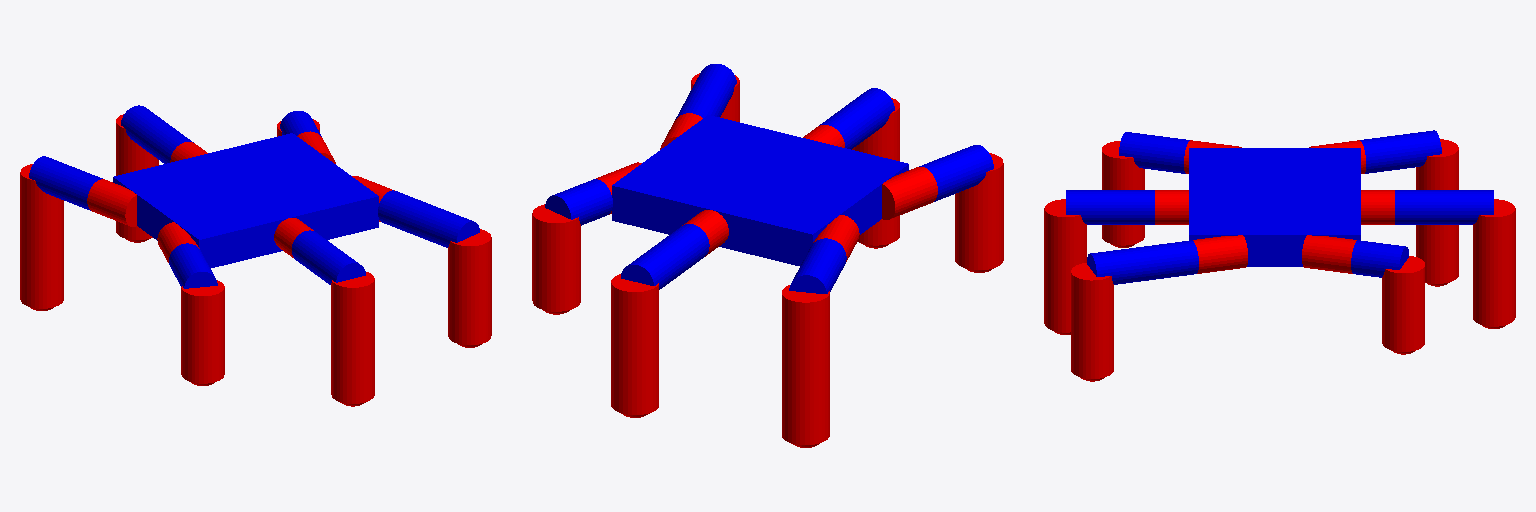
--- Render facts (derived) ---
The picture shows the robot from 3 angles, left to right: view 1: azimuth 30°, elevation 25°; view 2: azimuth 150°, elevation 25°; view 3: azimuth 270°, elevation 25°; orthographic projection.
Robot: pexod — 19 links, 18 joints (18 revolute); root link base_link; default pose: every joint at zero.
Links seen in each view (by area): view 1: base_link, leg_4_3, leg_0_3, leg_3_3, leg_5_3, leg_3_2, leg_4_2, leg_0_2, leg_1_2, leg_1_3, leg_0_1, leg_5_2 (+3 smaller); view 2: base_link, leg_0_3, leg_1_3, leg_2_3, leg_5_3, leg_1_2, leg_4_2, leg_5_2, leg_4_3, leg_0_2, leg_5_1, leg_3_2 (+5 smaller); view 3: base_link, leg_1_3, leg_3_3, leg_4_3, leg_0_3, leg_2_3, leg_3_2, leg_1_2, leg_4_2, leg_0_2, leg_5_3, leg_5_2 (+5 smaller).
Link boxes in pixels (left/top/right/bottom): base_link: left=113, top=133, right=378, bottom=268; leg_4_3: left=331, top=272, right=374, bottom=406; leg_0_3: left=20, top=164, right=63, bottom=310; leg_3_3: left=448, top=229, right=491, bottom=347; leg_5_3: left=181, top=280, right=224, bottom=385; leg_3_2: left=378, top=190, right=479, bottom=247; leg_4_2: left=292, top=230, right=365, bottom=284; leg_0_2: left=29, top=156, right=102, bottom=210; leg_1_2: left=121, top=105, right=193, bottom=163; leg_1_3: left=116, top=114, right=158, bottom=242; leg_0_1: left=87, top=179, right=136, bottom=226; leg_5_2: left=169, top=243, right=217, bottom=288; base_link: left=612, top=115, right=908, bottom=265; leg_0_3: left=782, top=285, right=829, bottom=447; leg_1_3: left=611, top=274, right=658, bottom=417; leg_2_3: left=532, top=204, right=580, bottom=314; leg_5_3: left=955, top=153, right=1003, bottom=272; leg_1_2: left=621, top=224, right=709, bottom=289; leg_4_2: left=819, top=88, right=894, bottom=149; leg_5_2: left=919, top=145, right=993, bottom=201; leg_4_3: left=852, top=98, right=899, bottom=248; leg_0_2: left=789, top=238, right=846, bottom=293; leg_5_1: left=882, top=167, right=937, bottom=219; leg_3_2: left=675, top=64, right=736, bottom=119; base_link: left=1189, top=148, right=1360, bottom=266; leg_1_3: left=1473, top=199, right=1515, bottom=328; leg_3_3: left=1071, top=263, right=1113, bottom=381; leg_4_3: left=1044, top=199, right=1086, bottom=334; leg_0_3: left=1416, top=139, right=1458, bottom=286; leg_2_3: left=1382, top=256, right=1424, bottom=354; leg_3_2: left=1087, top=240, right=1198, bottom=284; leg_1_2: left=1395, top=190, right=1493, bottom=224; leg_4_2: left=1066, top=190, right=1154, bottom=224; leg_0_2: left=1360, top=130, right=1441, bottom=173; leg_5_3: left=1102, top=141, right=1144, bottom=247; leg_5_2: left=1119, top=132, right=1189, bottom=173.
Size in the robot's own frame: 0.3892 by 0.5482 by 0.1952 metres.
Geometry: primitives only (box / cylinder / sphere), no mesh files.

URDF robot description (pexod):
<?xml version="1.0" ?>
<!-- =================================================================================== -->
<!-- |    This document was autogenerated by xacro from pexod.xacro                    | -->
<!-- |    EDITING THIS FILE BY HAND IS NOT RECOMMENDED                                 | -->
<!-- =================================================================================== -->
<robot name="pexod" xmlns:xacro="http://www.ros.org/wiki/xacro">
  <!-- <xacro:include filename="$(find pexod_description)/urdf/pexod_control.xacro" /> -->
  <!-- MATERIALS -->
  <material name="Blue">
    <color rgba="0 0 1 1"/>
  </material>
  <material name="Red">
    <color rgba="1 0 0 1"/>
  </material>
  <material name="Green">
    <color rgba="0 1 0 1"/>
  </material>
  <material name="Yellow">
    <color rgba="1 1 0 1"/>
  </material>
  <material name="LightGrey">
    <color rgba="0.6 0.6 0.6 1.0"/>
  </material>
  <!-- END OF MATERIALS -->
  <!-- XACRO MACROS FOR VISUALS AND COLLISIONS -->
  <!-- END OF XACRO MACROS -->
  <!-- TORSO -->
  <link name="base_link">
    <visual>
      <origin rpy="0 0 0" xyz="0 0 0"/>
      <geometry>
        <box size="0.24 0.2 0.04"/>
      </geometry>
      <material name="Blue"/>
    </visual>
    <collision>
      <origin rpy="0 0 0" xyz="0 0 0"/>
      <geometry>
        <box size="0.24 0.2 0.04"/>
      </geometry>
    </collision>
    <inertial>
      <!-- CENTER OF MASS -->
      <origin rpy="0 0 0" xyz="0 0 0"/>
      <mass value="1.031"/>
      <!-- box inertia: 1/12*m(y^2+z^2), ... -->
      <inertia ixx="0.00357413333333" ixy="0" ixz="0" iyy="0.00508626666667" iyz="0" izz="0.00838546666667"/>
    </inertial>
  </link>
  <!-- XACRO MACRO FOR LEGS LINKS/JOINTS -->
  <!-- END OF LEG LINKS/JOINTS -->
  <joint name="body_leg_2" type="revolute">
    <parent link="base_link"/>
    <child link="leg_2_1"/>
    <limit effort="30.0" lower="-1.57079632679" upper="1.57079632679" velocity="7.0"/>
    <origin rpy="0 0 -0.3" xyz="0.11 0.04 0"/>
    <!-- <xacro:if value="${index == 5 or index == 4 or index == 3}">
                <axis xyz="0 0 1"/>
            </xacro:if>
            <xacro:if value="${index == 2 or index == 1 or index == 0}"> -->
    <axis xyz="0 0 1"/>
    <!-- </xacro:if> -->
    <dynamics damping="0.0"/>
  </joint>
  <link name="leg_2_1">
    <visual>
      <origin rpy="1.57079632679 0 0" xyz="0.01 0.03 0"/>
      <geometry>
        <cylinder length="0.06" radius="0.02"/>
      </geometry>
      <material name="Red"/>
    </visual>
    <collision>
      <origin rpy="1.57079632679 0 0" xyz="0.01 0.03 0"/>
      <geometry>
        <box size="0.02 0.02 0.06"/>
      </geometry>
    </collision>
    <inertial>
      <!-- CENTER OF MASS -->
      <origin rpy="1.57079632679 0 0" xyz="0.01 0.03 0"/>
      <mass value="0.02"/>
      <!-- box inertia: 1/12*m(y^2+z^2), ... -->
      <inertia ixx="6.66666666667e-06" ixy="0" ixz="0" iyy="6.66666666667e-06" iyz="0" izz="1.33333333333e-06"/>
    </inertial>
  </link>
  <joint name="leg_2_1_2" type="revolute">
    <parent link="leg_2_1"/>
    <child link="leg_2_2"/>
    <limit effort="30.0" lower="-0.78539816339" upper="0.78539816339" velocity="7.0"/>
    <origin rpy="0 0 0" xyz="0 0.06 0"/>
    <axis xyz="1 0 0"/>
    <dynamics damping="0.0"/>
  </joint>
  <link name="leg_2_2">
    <visual>
      <origin rpy="1.57079632679 0 0" xyz="0.01 0.029377865961 0"/>
      <geometry>
        <cylinder length="0.0587557319221" radius="0.02"/>
      </geometry>
      <material name="Blue"/>
    </visual>
    <collision>
      <origin rpy="1.57079632679 0 0" xyz="0.01 0.029377865961 0"/>
      <geometry>
        <box size="0.02 0.02 0.0587557319221"/>
      </geometry>
    </collision>
    <inertial>
      <!-- CENTER OF MASS -->
      <origin rpy="1.57079632679 0 0" xyz="0.01 0.029377865961 0"/>
      <mass value="0.184"/>
      <!-- box inertia: 1/12*m(y^2+z^2), ... -->
      <inertia ixx="5.90676191834e-05" ixy="0" ixz="0" iyy="5.90676191834e-05" iyz="0" izz="1.22666666667e-05"/>
    </inertial>
  </link>
  <joint name="leg_2_2_3" type="revolute">
    <parent link="leg_2_2"/>
    <child link="leg_2_3"/>
    <limit effort="30.0" lower="-0.78539816339" upper="0.78539816339" velocity="7.0"/>
    <origin rpy="-1.57079632679 0 0" xyz="0 0.0587557319221 0"/>
    <axis xyz="-1 0 0"/>
    <dynamics damping="0.0"/>
  </joint>
  <link name="leg_2_3">
    <visual>
      <origin rpy="1.57079632679 0 0" xyz="0.0125 0.050413969659 0"/>
      <geometry>
        <cylinder length="0.100827939318" radius="0.025"/>
      </geometry>
      <material name="Red"/>
    </visual>
    <visual>
      <origin rpy="1.57079632679 0 0" xyz="0.0125 0.088327939318 0"/>
      <geometry>
        <sphere radius="0.025"/>
      </geometry>
      <material name="Red"/>
    </visual>
    <collision>
      <origin rpy="1.57079632679 0 0" xyz="0.0125 0.050413969659 0"/>
      <geometry>
        <box size="0.025 0.025 0.100827939318"/>
      </geometry>
    </collision>
    <collision>
      <origin rpy="1.57079632679 0 0" xyz="0.0125 0.088327939318 0"/>
      <geometry>
        <sphere radius="0.025"/>
      </geometry>
      <material name="Red"/>
    </collision>
    <inertial>
      <!-- CENTER OF MASS -->
      <origin rpy="1.57079632679 0 0" xyz="0.0125 0.050413969659 0"/>
      <mass value="0.04"/>
      <!-- box inertia: 1/12*m(y^2+z^2), ... -->
      <inertia ixx="3.5970911157e-05" ixy="0" ixz="0" iyy="3.5970911157e-05" iyz="0" izz="4.16666666667e-06"/>
    </inertial>
  </link>
  <joint name="body_leg_3" type="revolute">
    <parent link="base_link"/>
    <child link="leg_3_1"/>
    <limit effort="30.0" lower="-1.57079632679" upper="1.57079632679" velocity="7.0"/>
    <origin rpy="0 0 0.3" xyz="0.11 -0.04 0"/>
    <!-- <xacro:if value="${index == 5 or index == 4 or index == 3}">
                <axis xyz="0 0 1"/>
            </xacro:if>
            <xacro:if value="${index == 2 or index == 1 or index == 0}"> -->
    <axis xyz="0 0 1"/>
    <!-- </xacro:if> -->
    <dynamics damping="0.0"/>
  </joint>
  <link name="leg_3_1">
    <visual>
      <origin rpy="1.57079632679 0 0" xyz="0.01 -0.03 0"/>
      <geometry>
        <cylinder length="0.06" radius="0.02"/>
      </geometry>
      <material name="Red"/>
    </visual>
    <collision>
      <origin rpy="1.57079632679 0 0" xyz="0.01 -0.03 0"/>
      <geometry>
        <box size="0.02 0.02 0.06"/>
      </geometry>
    </collision>
    <inertial>
      <!-- CENTER OF MASS -->
      <origin rpy="1.57079632679 0 0" xyz="0.01 -0.03 0"/>
      <mass value="0.02"/>
      <!-- box inertia: 1/12*m(y^2+z^2), ... -->
      <inertia ixx="6.66666666667e-06" ixy="0" ixz="0" iyy="6.66666666667e-06" iyz="0" izz="1.33333333333e-06"/>
    </inertial>
  </link>
  <joint name="leg_3_1_2" type="revolute">
    <parent link="leg_3_1"/>
    <child link="leg_3_2"/>
    <limit effort="30.0" lower="-0.78539816339" upper="0.78539816339" velocity="7.0"/>
    <origin rpy="0 0 0" xyz="0 -0.06 0"/>
    <axis xyz="-1 0 0"/>
    <dynamics damping="0.0"/>
  </joint>
  <link name="leg_3_2">
    <visual>
      <origin rpy="1.57079632679 0 0" xyz="0.01 -0.0621698766225 0"/>
      <geometry>
        <cylinder length="0.124339753245" radius="0.02"/>
      </geometry>
      <material name="Blue"/>
    </visual>
    <collision>
      <origin rpy="1.57079632679 0 0" xyz="0.01 -0.0621698766225 0"/>
      <geometry>
        <box size="0.02 0.02 0.124339753245"/>
      </geometry>
    </collision>
    <inertial>
      <!-- CENTER OF MASS -->
      <origin rpy="1.57079632679 0 0" xyz="0.01 -0.0621698766225 0"/>
      <mass value="0.184"/>
      <!-- box inertia: 1/12*m(y^2+z^2), ... -->
      <inertia ixx="0.000243192404968" ixy="0" ixz="0" iyy="0.000243192404968" iyz="0" izz="1.22666666667e-05"/>
    </inertial>
  </link>
  <joint name="leg_3_2_3" type="revolute">
    <parent link="leg_3_2"/>
    <child link="leg_3_3"/>
    <limit effort="30.0" lower="-0.78539816339" upper="0.78539816339" velocity="7.0"/>
    <origin rpy="1.57079632679 0 0" xyz="0 -0.124339753245 0"/>
    <axis xyz="1 0 0"/>
    <dynamics damping="0.0"/>
  </joint>
  <link name="leg_3_3">
    <visual>
      <origin rpy="1.57079632679 0 0" xyz="0.0125 -0.063259593754 0"/>
      <geometry>
        <cylinder length="0.126519187508" radius="0.025"/>
      </geometry>
      <material name="Red"/>
    </visual>
    <visual>
      <origin rpy="1.57079632679 0 0" xyz="0.0125 -0.114019187508 0"/>
      <geometry>
        <sphere radius="0.025"/>
      </geometry>
      <material name="Red"/>
    </visual>
    <collision>
      <origin rpy="1.57079632679 0 0" xyz="0.0125 -0.063259593754 0"/>
      <geometry>
        <box size="0.025 0.025 0.126519187508"/>
      </geometry>
    </collision>
    <collision>
      <origin rpy="1.57079632679 0 0" xyz="0.0125 -0.114019187508 0"/>
      <geometry>
        <sphere radius="0.025"/>
      </geometry>
      <material name="Red"/>
    </collision>
    <inertial>
      <!-- CENTER OF MASS -->
      <origin rpy="1.57079632679 0 0" xyz="0.0125 -0.063259593754 0"/>
      <mass value="0.04"/>
      <!-- box inertia: 1/12*m(y^2+z^2), ... -->
      <inertia ixx="5.54403493589e-05" ixy="0" ixz="0" iyy="5.54403493589e-05" iyz="0" izz="4.16666666667e-06"/>
    </inertial>
  </link>
  <joint name="body_leg_0" type="revolute">
    <parent link="base_link"/>
    <child link="leg_0_1"/>
    <limit effort="30.0" lower="-1.57079632679" upper="1.57079632679" velocity="7.0"/>
    <origin rpy="0 0 0.3" xyz="-0.13 0.04 0"/>
    <!-- <xacro:if value="${index == 5 or index == 4 or index == 3}">
                <axis xyz="0 0 1"/>
            </xacro:if>
            <xacro:if value="${index == 2 or index == 1 or index == 0}"> -->
    <axis xyz="0 0 1"/>
    <!-- </xacro:if> -->
    <dynamics damping="0.0"/>
  </joint>
  <link name="leg_0_1">
    <visual>
      <origin rpy="1.57079632679 0 0" xyz="0.01 0.03 0"/>
      <geometry>
        <cylinder length="0.06" radius="0.02"/>
      </geometry>
      <material name="Red"/>
    </visual>
    <collision>
      <origin rpy="1.57079632679 0 0" xyz="0.01 0.03 0"/>
      <geometry>
        <box size="0.02 0.02 0.06"/>
      </geometry>
    </collision>
    <inertial>
      <!-- CENTER OF MASS -->
      <origin rpy="1.57079632679 0 0" xyz="0.01 0.03 0"/>
      <mass value="0.02"/>
      <!-- box inertia: 1/12*m(y^2+z^2), ... -->
      <inertia ixx="6.66666666667e-06" ixy="0" ixz="0" iyy="6.66666666667e-06" iyz="0" izz="1.33333333333e-06"/>
    </inertial>
  </link>
  <joint name="leg_0_1_2" type="revolute">
    <parent link="leg_0_1"/>
    <child link="leg_0_2"/>
    <limit effort="30.0" lower="-0.78539816339" upper="0.78539816339" velocity="7.0"/>
    <origin rpy="0 0 0" xyz="0 0.06 0"/>
    <axis xyz="1 0 0"/>
    <dynamics damping="0.0"/>
  </joint>
  <link name="leg_0_2">
    <visual>
      <origin rpy="1.57079632679 0 0" xyz="0.01 0.0460457643201 0"/>
      <geometry>
        <cylinder length="0.0920915286403" radius="0.02"/>
      </geometry>
      <material name="Blue"/>
    </visual>
    <collision>
      <origin rpy="1.57079632679 0 0" xyz="0.01 0.0460457643201 0"/>
      <geometry>
        <box size="0.02 0.02 0.0920915286403"/>
      </geometry>
    </collision>
    <inertial>
      <!-- CENTER OF MASS -->
      <origin rpy="1.57079632679 0 0" xyz="0.01 0.0460457643201 0"/>
      <mass value="0.184"/>
      <!-- box inertia: 1/12*m(y^2+z^2), ... -->
      <inertia ixx="0.000136173027925" ixy="0" ixz="0" iyy="0.000136173027925" iyz="0" izz="1.22666666667e-05"/>
    </inertial>
  </link>
  <joint name="leg_0_2_3" type="revolute">
    <parent link="leg_0_2"/>
    <child link="leg_0_3"/>
    <limit effort="30.0" lower="-0.78539816339" upper="0.78539816339" velocity="7.0"/>
    <origin rpy="-1.57079632679 0 0" xyz="0 0.0920915286403 0"/>
    <axis xyz="-1 0 0"/>
    <dynamics damping="0.0"/>
  </joint>
  <link name="leg_0_3">
    <visual>
      <origin rpy="1.57079632679 0 0" xyz="0.0125 0.0813630883975 0"/>
      <geometry>
        <cylinder length="0.162726176795" radius="0.025"/>
      </geometry>
      <material name="Red"/>
    </visual>
    <visual>
      <origin rpy="1.57079632679 0 0" xyz="0.0125 0.150226176795 0"/>
      <geometry>
        <sphere radius="0.025"/>
      </geometry>
      <material name="Red"/>
    </visual>
    <collision>
      <origin rpy="1.57079632679 0 0" xyz="0.0125 0.0813630883975 0"/>
      <geometry>
        <box size="0.025 0.025 0.162726176795"/>
      </geometry>
    </collision>
    <collision>
      <origin rpy="1.57079632679 0 0" xyz="0.0125 0.150226176795 0"/>
      <geometry>
        <sphere radius="0.025"/>
      </geometry>
      <material name="Red"/>
    </collision>
    <inertial>
      <!-- CENTER OF MASS -->
      <origin rpy="1.57079632679 0 0" xyz="0.0125 0.0813630883975 0"/>
      <mass value="0.04"/>
      <!-- box inertia: 1/12*m(y^2+z^2), ... -->
      <inertia ixx="9.03493620477e-05" ixy="0" ixz="0" iyy="9.03493620477e-05" iyz="0" izz="4.16666666667e-06"/>
    </inertial>
  </link>
  <joint name="body_leg_5" type="revolute">
    <parent link="base_link"/>
    <child link="leg_5_1"/>
    <limit effort="30.0" lower="-1.57079632679" upper="1.57079632679" velocity="7.0"/>
    <origin rpy="0 0 -0.3" xyz="-0.13 -0.04 0"/>
    <!-- <xacro:if value="${index == 5 or index == 4 or index == 3}">
                <axis xyz="0 0 1"/>
            </xacro:if>
            <xacro:if value="${index == 2 or index == 1 or index == 0}"> -->
    <axis xyz="0 0 1"/>
    <!-- </xacro:if> -->
    <dynamics damping="0.0"/>
  </joint>
  <link name="leg_5_1">
    <visual>
      <origin rpy="1.57079632679 0 0" xyz="0.01 -0.03 0"/>
      <geometry>
        <cylinder length="0.06" radius="0.02"/>
      </geometry>
      <material name="Red"/>
    </visual>
    <collision>
      <origin rpy="1.57079632679 0 0" xyz="0.01 -0.03 0"/>
      <geometry>
        <box size="0.02 0.02 0.06"/>
      </geometry>
    </collision>
    <inertial>
      <!-- CENTER OF MASS -->
      <origin rpy="1.57079632679 0 0" xyz="0.01 -0.03 0"/>
      <mass value="0.02"/>
      <!-- box inertia: 1/12*m(y^2+z^2), ... -->
      <inertia ixx="6.66666666667e-06" ixy="0" ixz="0" iyy="6.66666666667e-06" iyz="0" izz="1.33333333333e-06"/>
    </inertial>
  </link>
  <joint name="leg_5_1_2" type="revolute">
    <parent link="leg_5_1"/>
    <child link="leg_5_2"/>
    <limit effort="30.0" lower="-0.78539816339" upper="0.78539816339" velocity="7.0"/>
    <origin rpy="0 0 0" xyz="0 -0.06 0"/>
    <axis xyz="-1 0 0"/>
    <dynamics damping="0.0"/>
  </joint>
  <link name="leg_5_2">
    <visual>
      <origin rpy="1.57079632679 0 0" xyz="0.01 -0.0395781380421 0"/>
      <geometry>
        <cylinder length="0.0791562760841" radius="0.02"/>
      </geometry>
      <material name="Blue"/>
    </visual>
    <collision>
      <origin rpy="1.57079632679 0 0" xyz="0.01 -0.0395781380421 0"/>
      <geometry>
        <box size="0.02 0.02 0.0791562760841"/>
      </geometry>
    </collision>
    <inertial>
      <!-- CENTER OF MASS -->
      <origin rpy="1.57079632679 0 0" xyz="0.01 -0.0395781380421 0"/>
      <mass value="0.184"/>
      <!-- box inertia: 1/12*m(y^2+z^2), ... -->
      <inertia ixx="0.000102207646" ixy="0" ixz="0" iyy="0.000102207646" iyz="0" izz="1.22666666667e-05"/>
    </inertial>
  </link>
  <joint name="leg_5_2_3" type="revolute">
    <parent link="leg_5_2"/>
    <child link="leg_5_3"/>
    <limit effort="30.0" lower="-0.78539816339" upper="0.78539816339" velocity="7.0"/>
    <origin rpy="1.57079632679 0 0" xyz="0 -0.0791562760841 0"/>
    <axis xyz="1 0 0"/>
    <dynamics damping="0.0"/>
  </joint>
  <link name="leg_5_3">
    <visual>
      <origin rpy="1.57079632679 0 0" xyz="0.0125 -0.055800430172 0"/>
      <geometry>
        <cylinder length="0.111600860344" radius="0.025"/>
      </geometry>
      <material name="Red"/>
    </visual>
    <visual>
      <origin rpy="1.57079632679 0 0" xyz="0.0125 -0.099100860344 0"/>
      <geometry>
        <sphere radius="0.025"/>
      </geometry>
      <material name="Red"/>
    </visual>
    <collision>
      <origin rpy="1.57079632679 0 0" xyz="0.0125 -0.055800430172 0"/>
      <geometry>
        <box size="0.025 0.025 0.111600860344"/>
      </geometry>
    </collision>
    <collision>
      <origin rpy="1.57079632679 0 0" xyz="0.0125 -0.099100860344 0"/>
      <geometry>
        <sphere radius="0.025"/>
      </geometry>
      <material name="Red"/>
    </collision>
    <inertial>
      <!-- CENTER OF MASS -->
      <origin rpy="1.57079632679 0 0" xyz="0.0125 -0.055800430172 0"/>
      <mass value="0.04"/>
      <!-- box inertia: 1/12*m(y^2+z^2), ... -->
      <inertia ixx="4.35991734317e-05" ixy="0" ixz="0" iyy="4.35991734317e-05" iyz="0" izz="4.16666666667e-06"/>
    </inertial>
  </link>
  <joint name="body_leg_1" type="revolute">
    <parent link="base_link"/>
    <child link="leg_1_1"/>
    <limit effort="30.0" lower="-1.57079632679" upper="1.57079632679" velocity="7.0"/>
    <origin rpy="0 0 0" xyz="-0.01 0.08 0"/>
    <!-- <xacro:if value="${index == 5 or index == 4 or index == 3}">
                <axis xyz="0 0 1"/>
            </xacro:if>
            <xacro:if value="${index == 2 or index == 1 or index == 0}"> -->
    <axis xyz="0 0 1"/>
    <!-- </xacro:if> -->
    <dynamics damping="0.0"/>
  </joint>
  <link name="leg_1_1">
    <visual>
      <origin rpy="1.57079632679 0 0" xyz="0.01 0.03 0"/>
      <geometry>
        <cylinder length="0.06" radius="0.02"/>
      </geometry>
      <material name="Red"/>
    </visual>
    <collision>
      <origin rpy="1.57079632679 0 0" xyz="0.01 0.03 0"/>
      <geometry>
        <box size="0.02 0.02 0.06"/>
      </geometry>
    </collision>
    <inertial>
      <!-- CENTER OF MASS -->
      <origin rpy="1.57079632679 0 0" xyz="0.01 0.03 0"/>
      <mass value="0.02"/>
      <!-- box inertia: 1/12*m(y^2+z^2), ... -->
      <inertia ixx="6.66666666667e-06" ixy="0" ixz="0" iyy="6.66666666667e-06" iyz="0" izz="1.33333333333e-06"/>
    </inertial>
  </link>
  <joint name="leg_1_1_2" type="revolute">
    <parent link="leg_1_1"/>
    <child link="leg_1_2"/>
    <limit effort="30.0" lower="-0.78539816339" upper="0.78539816339" velocity="7.0"/>
    <origin rpy="0 0 0" xyz="0 0.06 0"/>
    <axis xyz="1 0 0"/>
    <dynamics damping="0.0"/>
  </joint>
  <link name="leg_1_2">
    <visual>
      <origin rpy="1.57079632679 0 0" xyz="0.01 0.0574036110725 0"/>
      <geometry>
        <cylinder length="0.114807222145" radius="0.02"/>
      </geometry>
      <material name="Blue"/>
    </visual>
    <collision>
      <origin rpy="1.57079632679 0 0" xyz="0.01 0.0574036110725 0"/>
      <geometry>
        <box size="0.02 0.02 0.114807222145"/>
      </geometry>
    </collision>
    <inertial>
      <!-- CENTER OF MASS -->
      <origin rpy="1.57079632679 0 0" xyz="0.01 0.0574036110725 0"/>
      <mass value="0.184"/>
      <!-- box inertia: 1/12*m(y^2+z^2), ... -->
      <inertia ixx="0.000208237373269" ixy="0" ixz="0" iyy="0.000208237373269" iyz="0" izz="1.22666666667e-05"/>
    </inertial>
  </link>
  <joint name="leg_1_2_3" type="revolute">
    <parent link="leg_1_2"/>
    <child link="leg_1_3"/>
    <limit effort="30.0" lower="-0.78539816339" upper="0.78539816339" velocity="7.0"/>
    <origin rpy="-1.57079632679 0 0" xyz="0 0.114807222145 0"/>
    <axis xyz="-1 0 0"/>
    <dynamics damping="0.0"/>
  </joint>
  <link name="leg_1_3">
    <visual>
      <origin rpy="1.57079632679 0 0" xyz="0.0125 0.070214736752 0"/>
      <geometry>
        <cylinder length="0.140429473504" radius="0.025"/>
      </geometry>
      <material name="Red"/>
    </visual>
    <visual>
      <origin rpy="1.57079632679 0 0" xyz="0.0125 0.127929473504 0"/>
      <geometry>
        <sphere radius="0.025"/>
      </geometry>
      <material name="Red"/>
    </visual>
    <collision>
      <origin rpy="1.57079632679 0 0" xyz="0.0125 0.070214736752 0"/>
      <geometry>
        <box size="0.025 0.025 0.140429473504"/>
      </geometry>
    </collision>
    <collision>
      <origin rpy="1.57079632679 0 0" xyz="0.0125 0.127929473504 0"/>
      <geometry>
        <sphere radius="0.025"/>
      </geometry>
      <material name="Red"/>
    </collision>
    <inertial>
      <!-- CENTER OF MASS -->
      <origin rpy="1.57079632679 0 0" xyz="0.0125 0.070214736752 0"/>
      <mass value="0.04"/>
      <!-- box inertia: 1/12*m(y^2+z^2), ... -->
      <inertia ixx="6.78181234287e-05" ixy="0" ixz="0" iyy="6.78181234287e-05" iyz="0" izz="4.16666666667e-06"/>
    </inertial>
  </link>
  <joint name="body_leg_4" type="revolute">
    <parent link="base_link"/>
    <child link="leg_4_1"/>
    <limit effort="30.0" lower="-1.57079632679" upper="1.57079632679" velocity="7.0"/>
    <origin rpy="0 0 0" xyz="-0.01 -0.08 0"/>
    <!-- <xacro:if value="${index == 5 or index == 4 or index == 3}">
                <axis xyz="0 0 1"/>
            </xacro:if>
            <xacro:if value="${index == 2 or index == 1 or index == 0}"> -->
    <axis xyz="0 0 1"/>
    <!-- </xacro:if> -->
    <dynamics damping="0.0"/>
  </joint>
  <link name="leg_4_1">
    <visual>
      <origin rpy="1.57079632679 0 0" xyz="0.01 -0.03 0"/>
      <geometry>
        <cylinder length="0.06" radius="0.02"/>
      </geometry>
      <material name="Red"/>
    </visual>
    <collision>
      <origin rpy="1.57079632679 0 0" xyz="0.01 -0.03 0"/>
      <geometry>
        <box size="0.02 0.02 0.06"/>
      </geometry>
    </collision>
    <inertial>
      <!-- CENTER OF MASS -->
      <origin rpy="1.57079632679 0 0" xyz="0.01 -0.03 0"/>
      <mass value="0.02"/>
      <!-- box inertia: 1/12*m(y^2+z^2), ... -->
      <inertia ixx="6.66666666667e-06" ixy="0" ixz="0" iyy="6.66666666667e-06" iyz="0" izz="1.33333333333e-06"/>
    </inertial>
  </link>
  <joint name="leg_4_1_2" type="revolute">
    <parent link="leg_4_1"/>
    <child link="leg_4_2"/>
    <limit effort="30.0" lower="-0.78539816339" upper="0.78539816339" velocity="7.0"/>
    <origin rpy="0 0 0" xyz="0 -0.06 0"/>
    <axis xyz="-1 0 0"/>
    <dynamics damping="0.0"/>
  </joint>
  <link name="leg_4_2">
    <visual>
      <origin rpy="1.57079632679 0 0" xyz="0.01 -0.0516805359515 0"/>
      <geometry>
        <cylinder length="0.103361071903" radius="0.02"/>
      </geometry>
      <material name="Blue"/>
    </visual>
    <collision>
      <origin rpy="1.57079632679 0 0" xyz="0.01 -0.0516805359515 0"/>
      <geometry>
        <box size="0.02 0.02 0.103361071903"/>
      </geometry>
    </collision>
    <inertial>
      <!-- CENTER OF MASS -->
      <origin rpy="1.57079632679 0 0" xyz="0.01 -0.0516805359515 0"/>
      <mass value="0.184"/>
      <!-- box inertia: 1/12*m(y^2+z^2), ... -->
      <inertia ixx="0.000169947171502" ixy="0" ixz="0" iyy="0.000169947171502" iyz="0" izz="1.22666666667e-05"/>
    </inertial>
  </link>
  <joint name="leg_4_2_3" type="revolute">
    <parent link="leg_4_2"/>
    <child link="leg_4_3"/>
    <limit effort="30.0" lower="-0.78539816339" upper="0.78539816339" velocity="7.0"/>
    <origin rpy="1.57079632679 0 0" xyz="0 -0.103361071903 0"/>
    <axis xyz="1 0 0"/>
    <dynamics damping="0.0"/>
  </joint>
  <link name="leg_4_3">
    <visual>
      <origin rpy="1.57079632679 0 0" xyz="0.0125 -0.074037904862 0"/>
      <geometry>
        <cylinder length="0.148075809724" radius="0.025"/>
      </geometry>
      <material name="Red"/>
    </visual>
    <visual>
      <origin rpy="1.57079632679 0 0" xyz="0.0125 -0.135575809724 0"/>
      <geometry>
        <sphere radius="0.025"/>
      </geometry>
      <material name="Red"/>
    </visual>
    <collision>
      <origin rpy="1.57079632679 0 0" xyz="0.0125 -0.074037904862 0"/>
      <geometry>
        <box size="0.025 0.025 0.148075809724"/>
      </geometry>
    </collision>
    <collision>
      <origin rpy="1.57079632679 0 0" xyz="0.0125 -0.135575809724 0"/>
      <geometry>
        <sphere radius="0.025"/>
      </geometry>
      <material name="Red"/>
    </collision>
    <inertial>
      <!-- CENTER OF MASS -->
      <origin rpy="1.57079632679 0 0" xyz="0.0125 -0.074037904862 0"/>
      <mass value="0.04"/>
      <!-- box inertia: 1/12*m(y^2+z^2), ... -->
      <inertia ixx="7.51714847514e-05" ixy="0" ixz="0" iyy="7.51714847514e-05" iyz="0" izz="4.16666666667e-06"/>
    </inertial>
  </link>
  <!-- END OF LEG LINKS/JOINTS -->
</robot>
